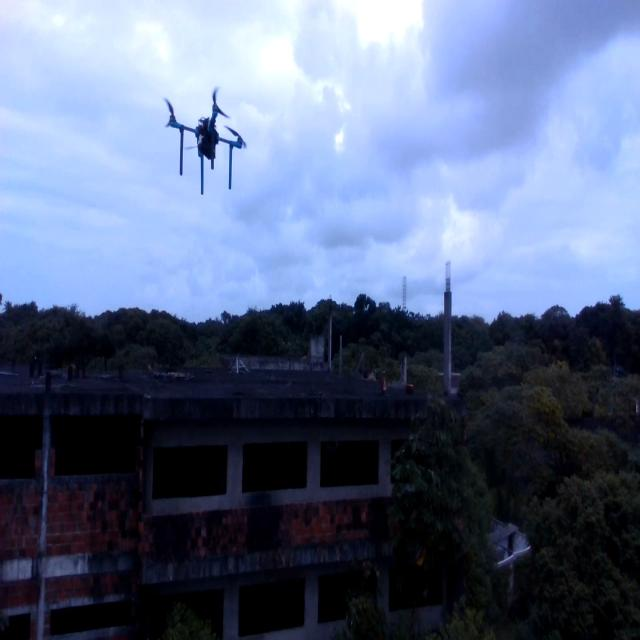-uav-: (154, 83, 254, 203)
